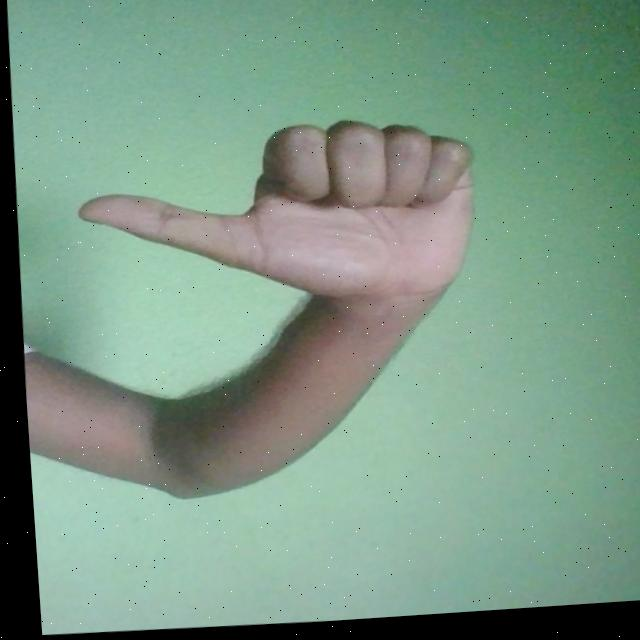Dislike: (66, 115, 477, 331)
